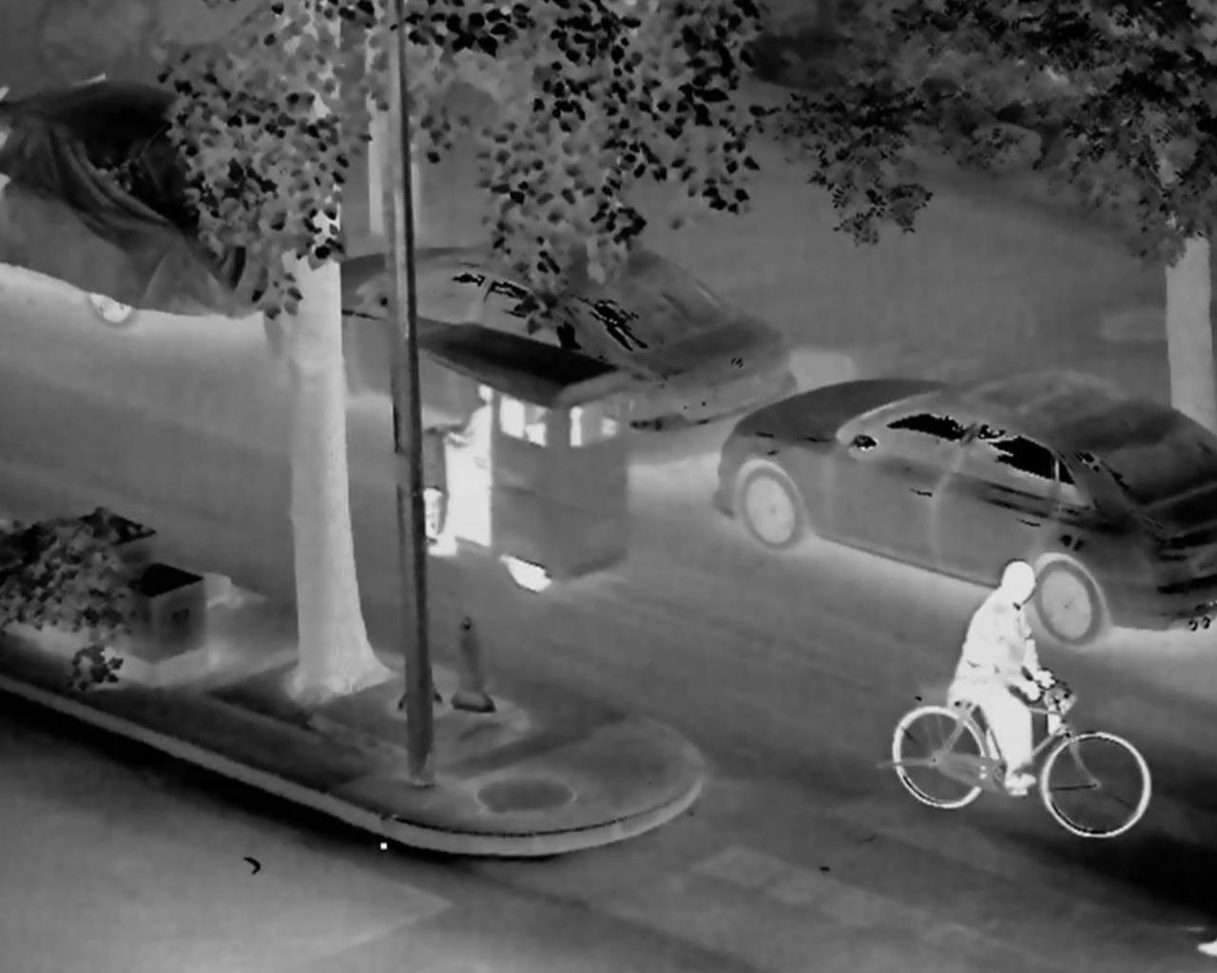person: (950, 548, 1070, 794), (433, 365, 549, 600)
